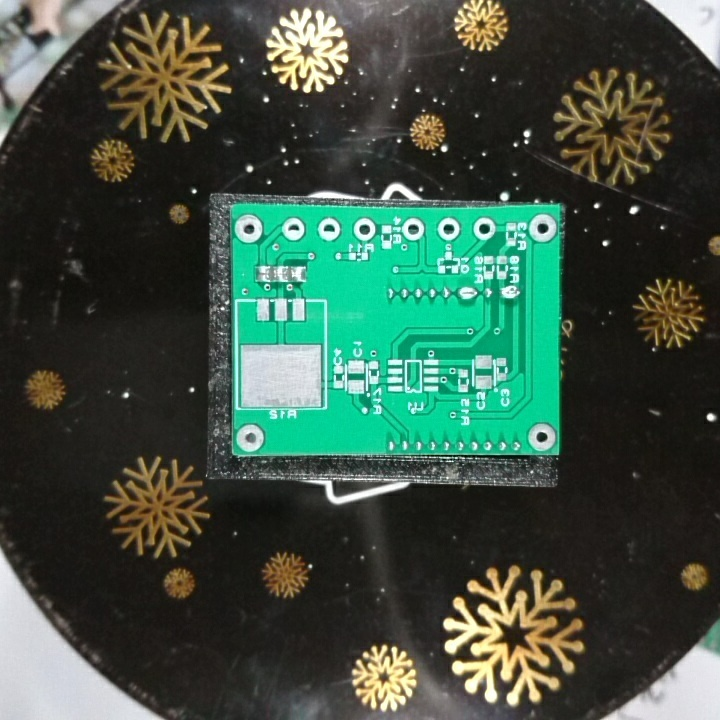F: (233, 421, 267, 454), (234, 212, 266, 244), (528, 213, 558, 245), (525, 423, 559, 451), (280, 216, 308, 243), (401, 216, 428, 243), (436, 214, 462, 241), (471, 216, 497, 241), (351, 216, 377, 241), (317, 217, 342, 243)
P: (456, 283, 481, 306), (498, 283, 523, 302)
